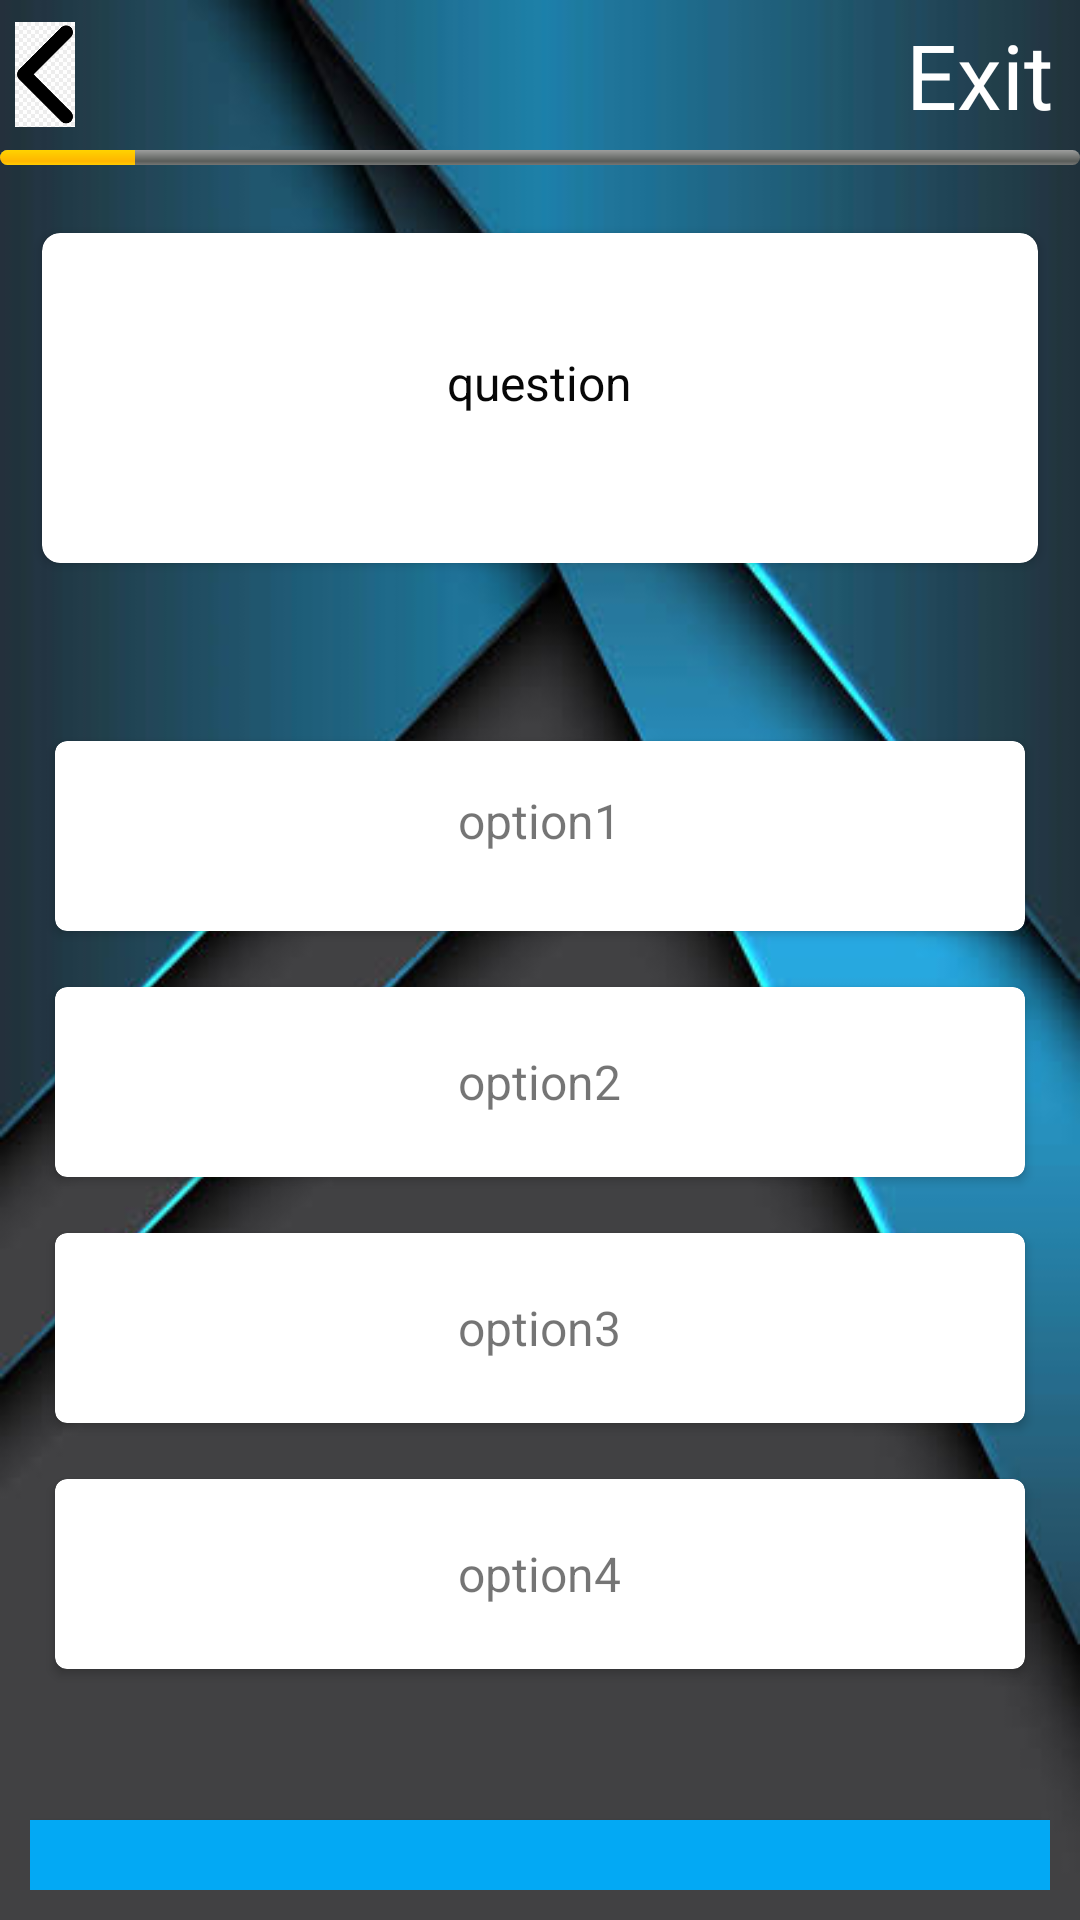

Named icons in this screenshot (1080 × 1920) and their centers, (x=x, y=y):
back: (x=45, y=74)
